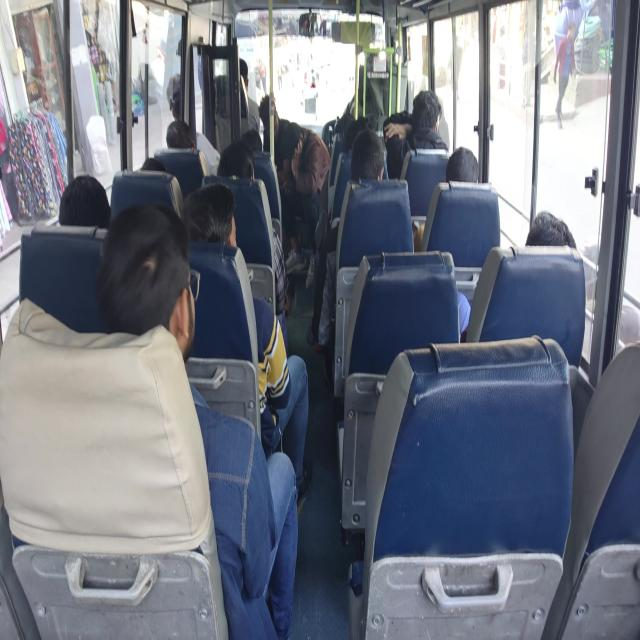person: (113, 215, 172, 320), (181, 184, 236, 256), (526, 202, 586, 264), (64, 172, 107, 231), (219, 136, 261, 185), (440, 151, 492, 183), (349, 134, 383, 178), (163, 112, 200, 152), (138, 148, 176, 182), (412, 99, 442, 141), (165, 77, 189, 118), (254, 97, 277, 136), (237, 122, 263, 154), (343, 117, 368, 149), (282, 121, 302, 156), (235, 57, 254, 88)
